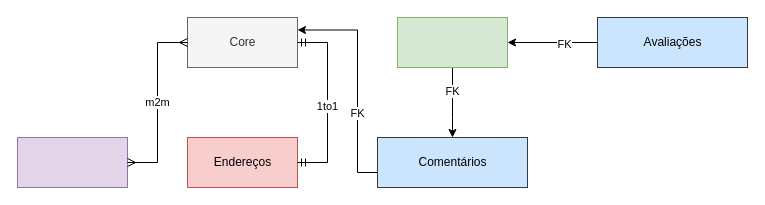
The diagram is 765 pixels wide and 205 high, and some of its shapes have lost their labels. The centre of each missing label's shape, as x and y in pixels:
"Atração" belongs at (x=72, y=162).
"User" belongs at (x=452, y=42).
